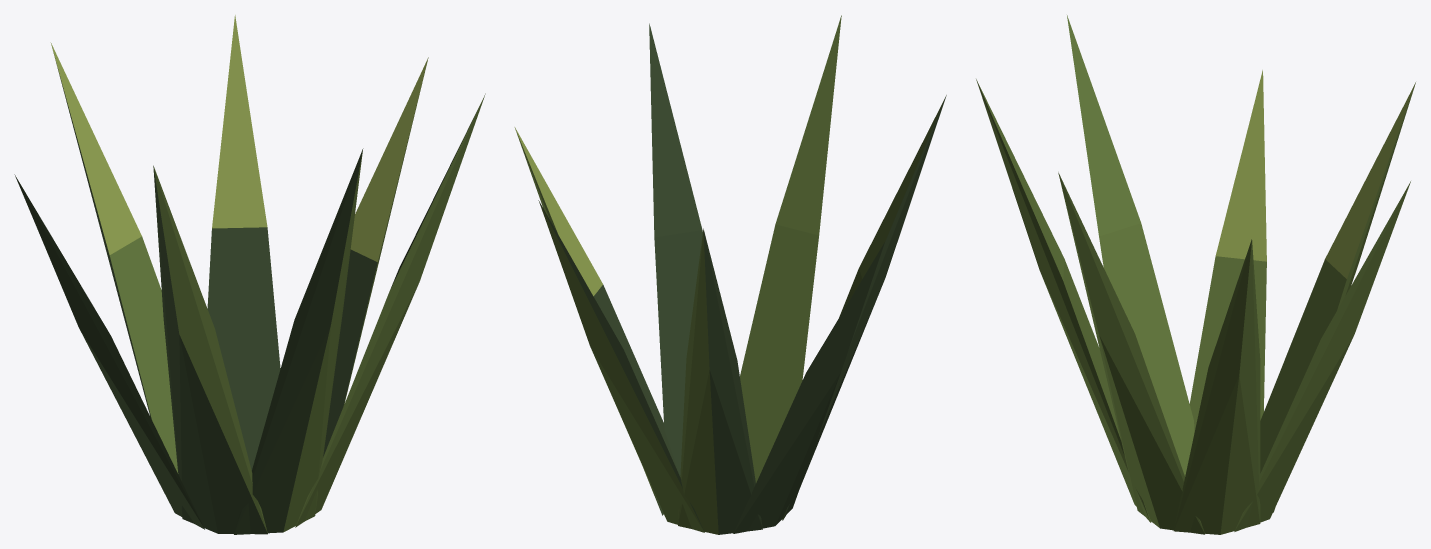
The model's file is TW_VEG_GRASS_TUFT_B_LOD0.glb.
3 renders of one model, left to right at view 1: azimuth 30°, elevation 25°; view 2: azimuth 150°, elevation 25°; view 3: azimuth 270°, elevation 25°, orthographic. The views are drawn at different scales.
Parts seen in each view (by area): view 1: TW_VEG_GRASS_TUFT_B_LOD0; view 2: TW_VEG_GRASS_TUFT_B_LOD0; view 3: TW_VEG_GRASS_TUFT_B_LOD0.
Boxes of the visible parts, left/top/right/bottom form: TW_VEG_GRASS_TUFT_B_LOD0: left=14, top=15, right=485, bottom=534; TW_VEG_GRASS_TUFT_B_LOD0: left=514, top=15, right=946, bottom=534; TW_VEG_GRASS_TUFT_B_LOD0: left=976, top=15, right=1415, bottom=534.
Size of the model in its own units: 0.4581 by 0.4781 by 0.4491.
1 material, 1 textured.
